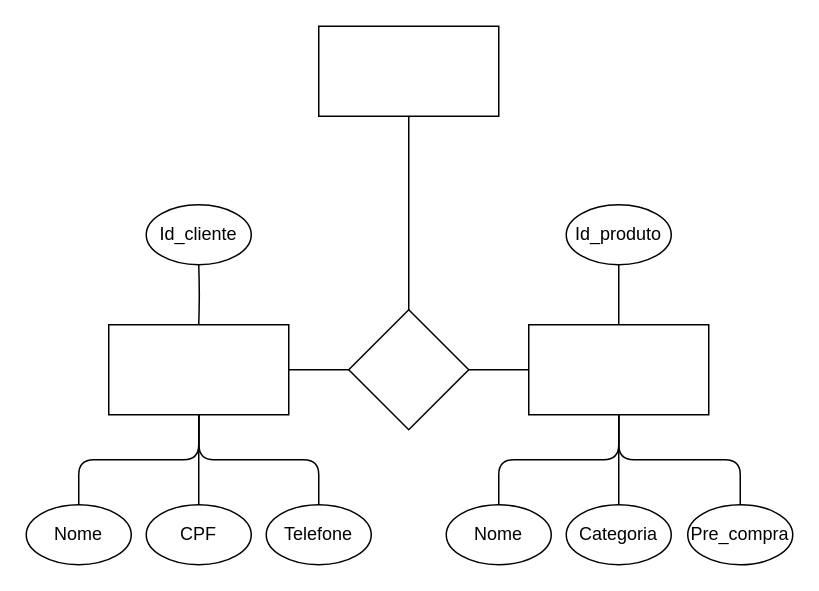
The diagram is 819 pixels wide and 591 high, and some of its shapes have lost their labels. Here are the shapes that lost their labels. From the top down, the centre of each, then its label:
At (x=198, y=369): "Cliente".
At (x=618, y=369): "Produto".
